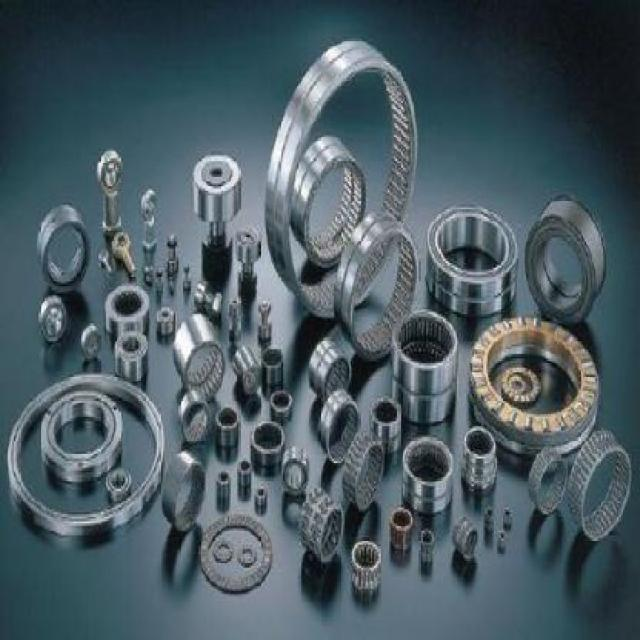Bearing: (264, 38, 419, 320), (466, 315, 604, 444), (336, 210, 420, 360), (292, 133, 369, 271), (526, 195, 607, 323), (424, 204, 518, 311), (38, 391, 124, 486), (568, 427, 634, 544), (390, 309, 460, 397), (171, 313, 229, 400), (400, 436, 458, 516), (296, 488, 346, 569), (342, 432, 388, 512), (190, 154, 244, 221), (318, 391, 361, 466), (306, 335, 353, 398), (527, 448, 568, 516), (103, 284, 153, 338), (175, 390, 212, 445), (112, 334, 154, 382), (347, 538, 382, 594), (499, 366, 542, 403), (280, 446, 311, 496), (36, 297, 68, 345), (105, 465, 136, 500), (79, 324, 106, 361), (234, 230, 263, 264)
